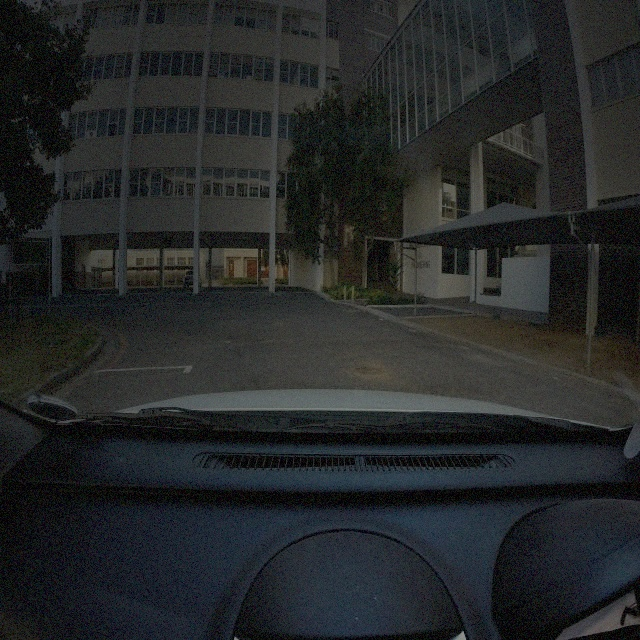pothole: (356, 365, 381, 376)
